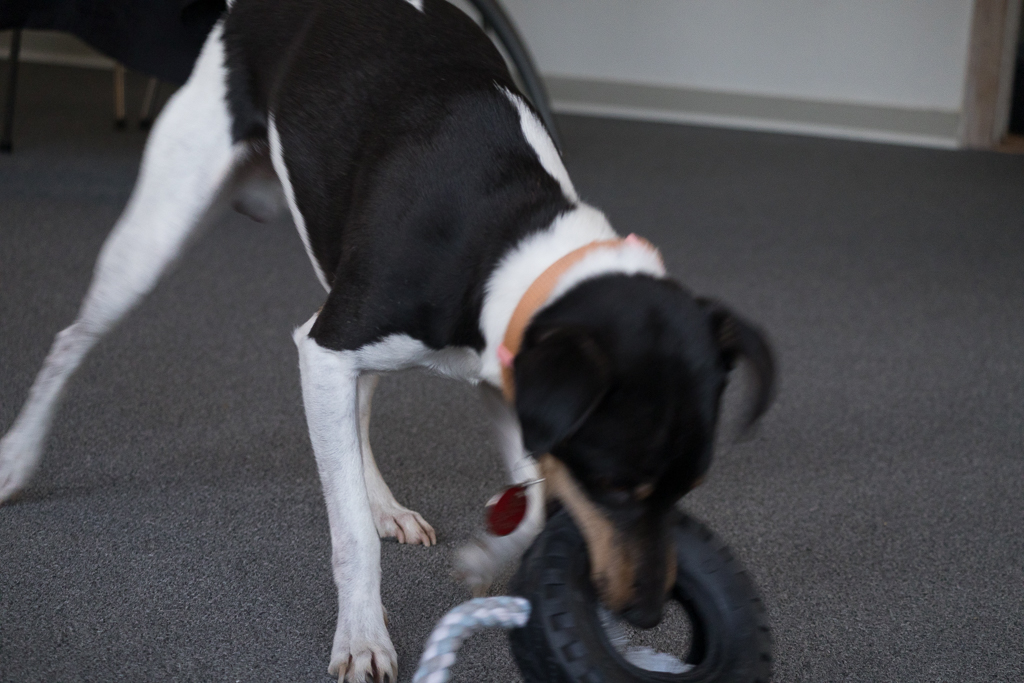Dog: (0, 0, 792, 683)
